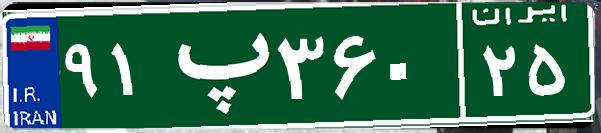0: (385, 28, 445, 110)
1: (110, 28, 158, 105)
2: (475, 38, 525, 113)
3: (273, 28, 330, 110)
5: (525, 38, 570, 115)
6: (330, 28, 385, 110)
9: (57, 26, 110, 107)
پ: (158, 15, 273, 115)
